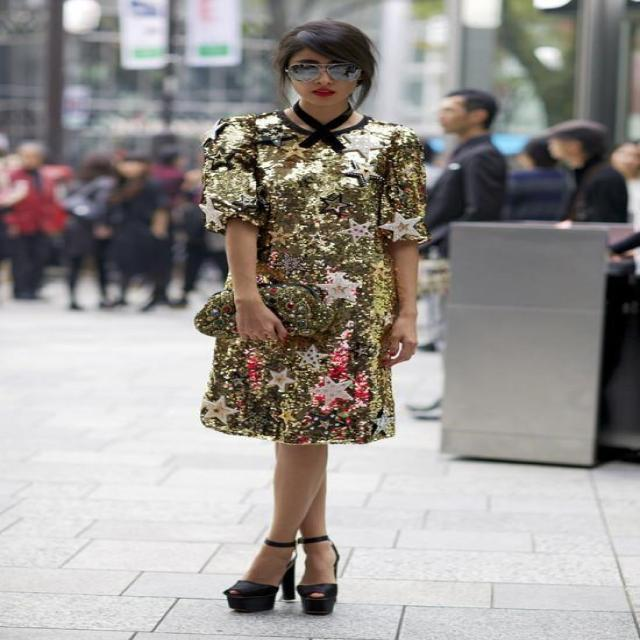dress: (199, 109, 428, 446)
